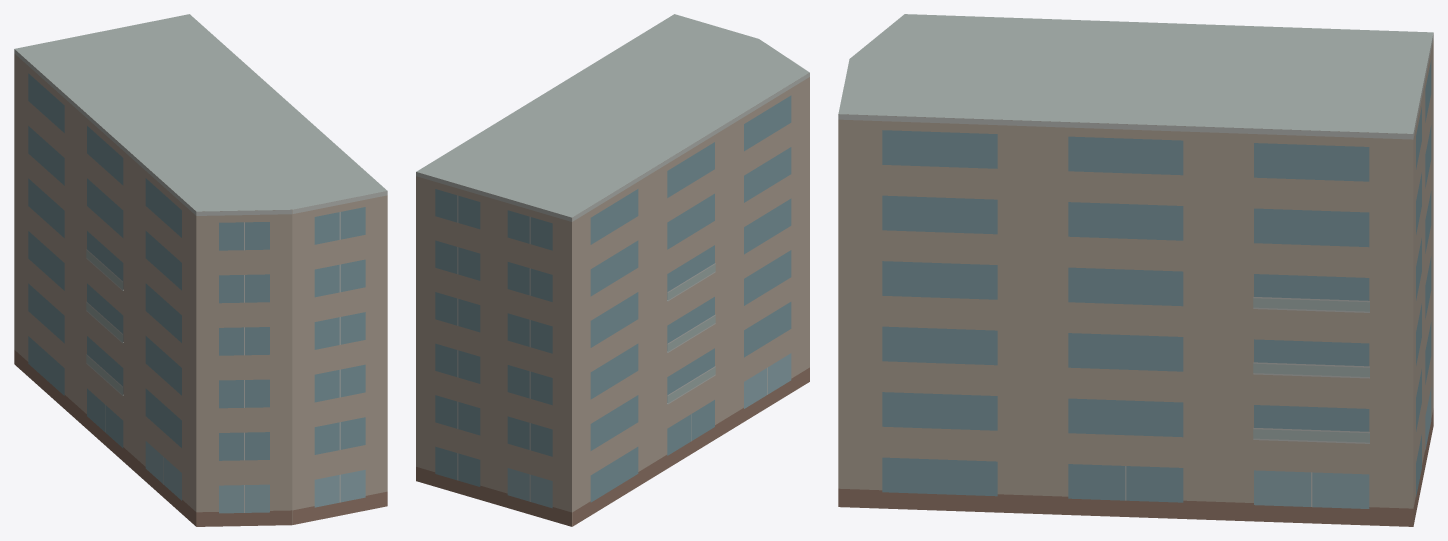
The model's file is survey-upis-32656078.glb.
3 views of the same model, side by side, from view 1: azimuth 30°, elevation 25°; view 2: azimuth 150°, elevation 25°; view 3: azimuth 270°, elevation 25° (orthographic). The views are drawn at different scales.
Parts seen in each view (by area): view 1: survey-upis-32656078.tmp; view 2: survey-upis-32656078.tmp; view 3: survey-upis-32656078.tmp.
Boxes of the visible parts, x1=… form: survey-upis-32656078.tmp: x1=14, y1=14, x2=387, y2=526; survey-upis-32656078.tmp: x1=416, y1=14, x2=809, y2=526; survey-upis-32656078.tmp: x1=838, y1=14, x2=1433, y2=526.
Size of the model in its own units: 11.34 by 17.3 by 23.76.
